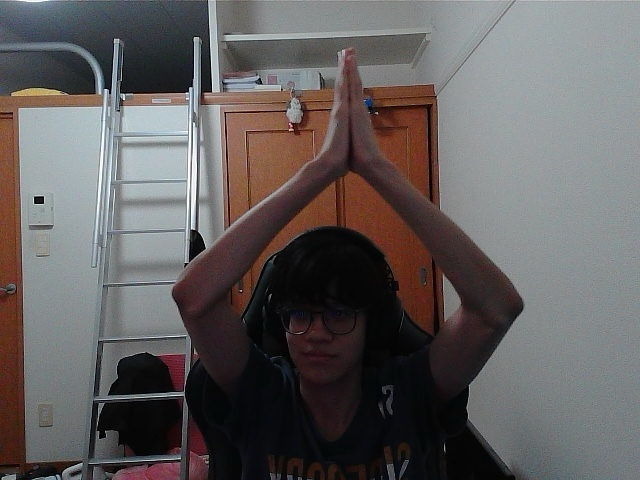pray: (343, 56, 353, 153)
